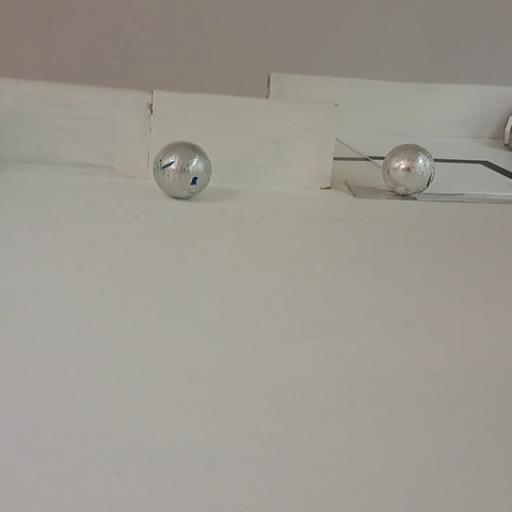alive: (149, 140, 213, 200), (380, 143, 437, 196)
